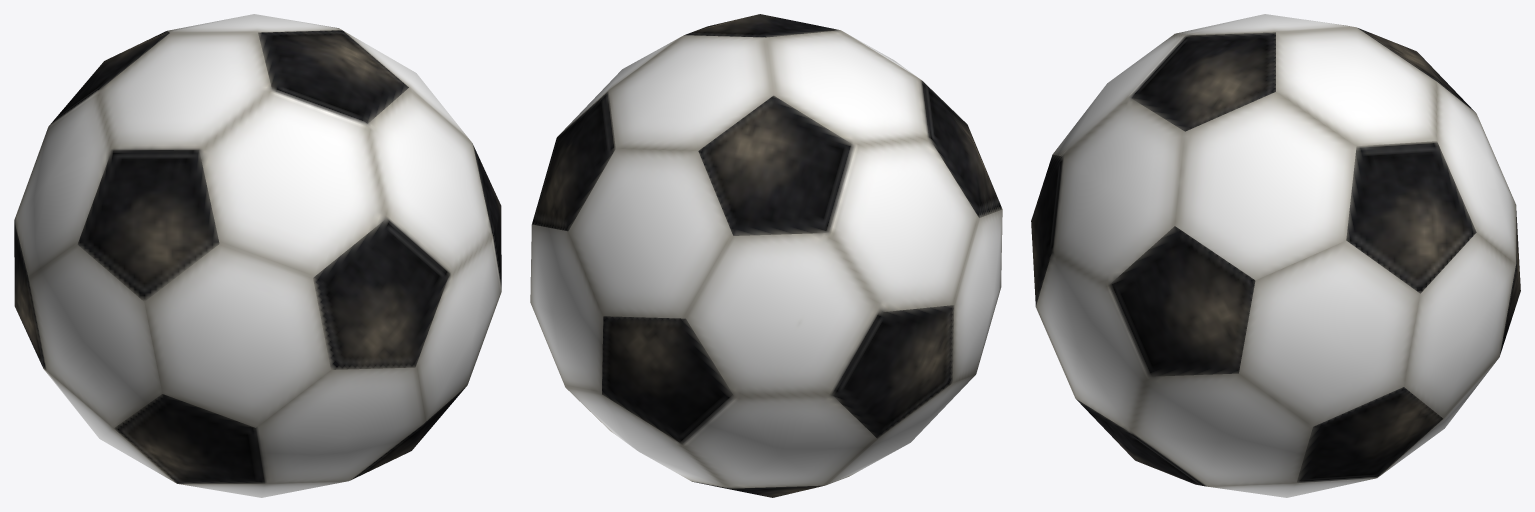
Rendered from st_ball_000.fbx.
The picture shows the model from 3 angles, left to right: view 1: azimuth 30°, elevation 25°; view 2: azimuth 150°, elevation 25°; view 3: azimuth 270°, elevation 25°; orthographic projection. The views are drawn at different scales.
Parts seen in each view (by area): view 1: st_Ball_030; view 2: st_Ball_030; view 3: st_Ball_030.
Part boxes in pixels (bbox=[...]): st_Ball_030: bbox=[14, 14, 501, 497]; st_Ball_030: bbox=[530, 14, 1002, 497]; st_Ball_030: bbox=[1031, 14, 1520, 497].
Size of the model in its own units: 21.7 by 22 by 21.84.
